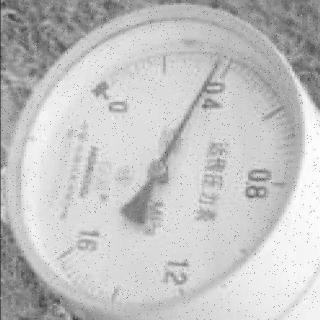gauge: (0, 0, 320, 320), (83, 72, 127, 118), (54, 224, 94, 274), (146, 160, 170, 182), (206, 54, 226, 76)
